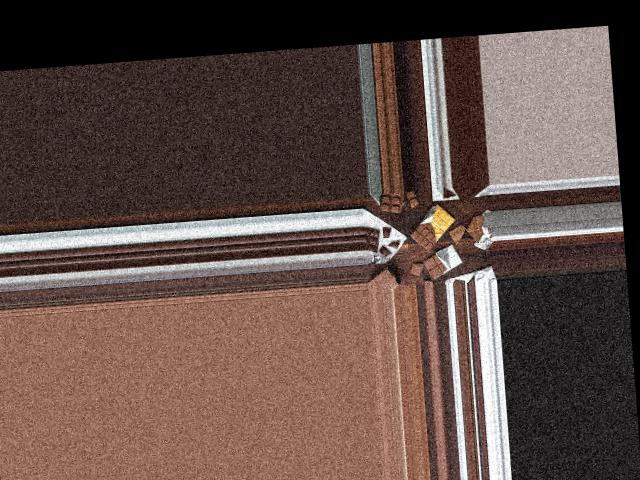chocolate: (422, 243, 461, 283)
